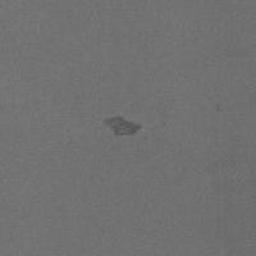Inclusion: (102, 115, 143, 138)
